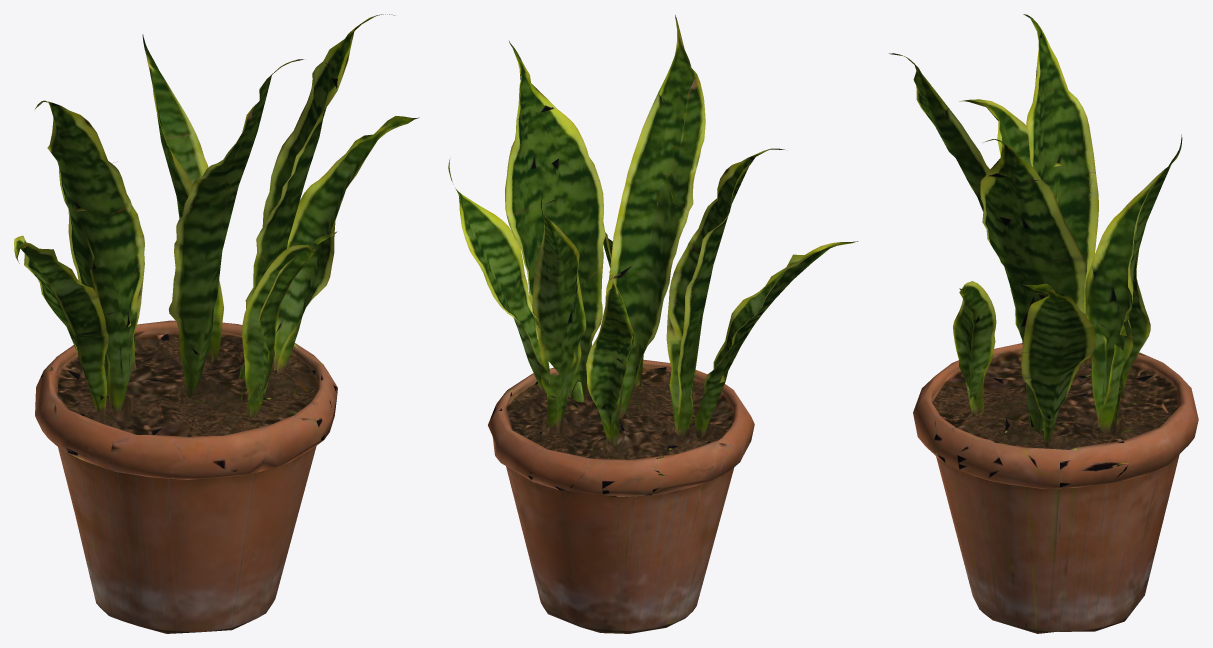
Rendered from vaso-espada.glb.
The picture shows the model from 3 angles, left to right: view 1: azimuth 30°, elevation 25°; view 2: azimuth 150°, elevation 25°; view 3: azimuth 270°, elevation 25°; orthographic projection. The views are drawn at different scales.
Bounding box in the file's own units: 0.7207 × 0.9521 × 0.478.
1 material, 1 textured.
